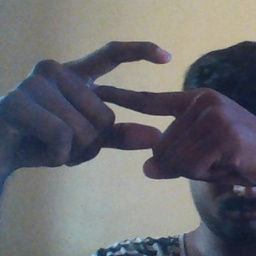E: (71, 40, 183, 161)
